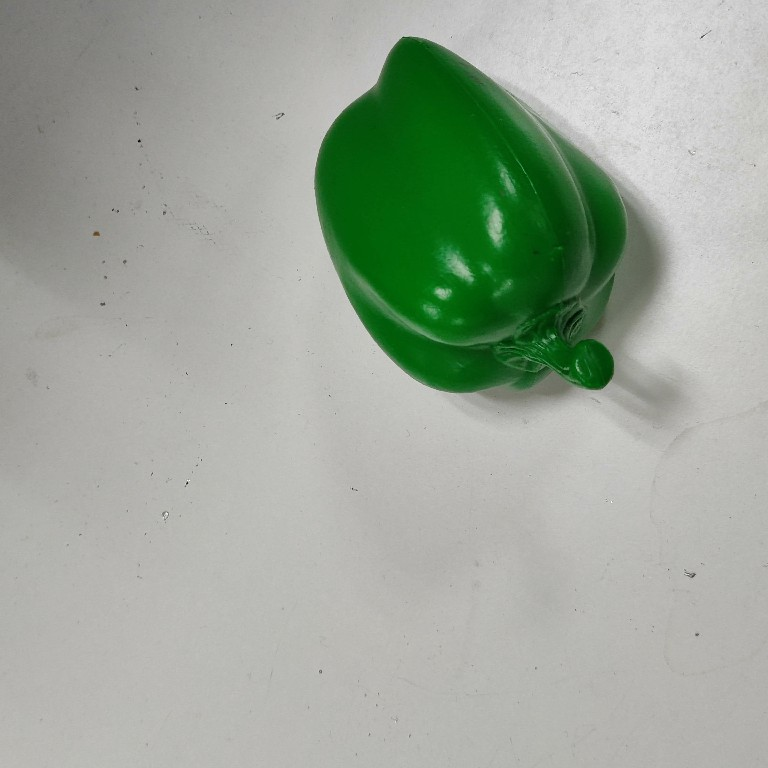fruit_pepper: (304, 30, 636, 409)
